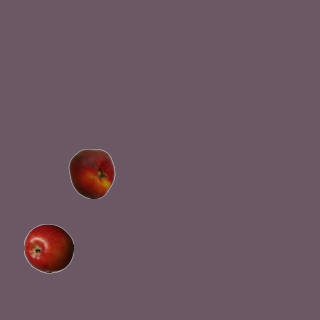Apple Braeburn: (23, 223, 73, 273)
Nectarine Flat: (66, 148, 116, 198)
